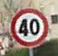limite 40: (9, 6, 49, 49)
